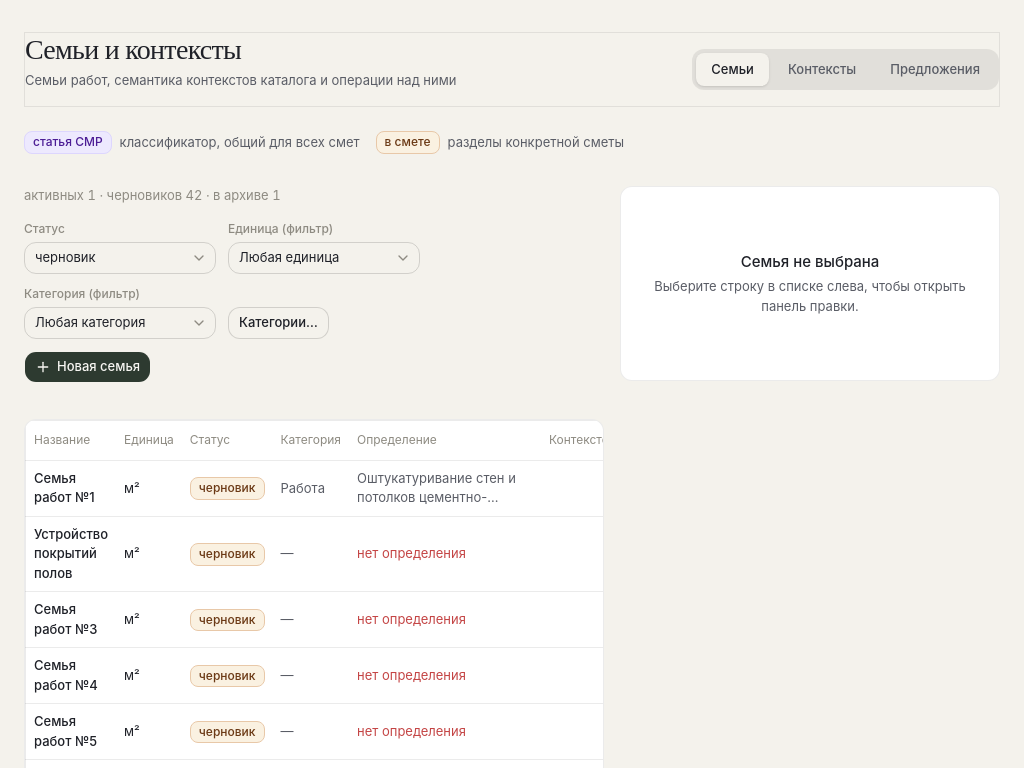
FamiliesPage — переход к семье из «Предложений» › повторный возврат на «Семьи» не открывает семью заново: фильтр «черновики», панели нет
What coordinates should you click on to do the following:
click the tab "Предложения"
I would click on:
 (935, 69)
Its box is [875, 53, 995, 86].
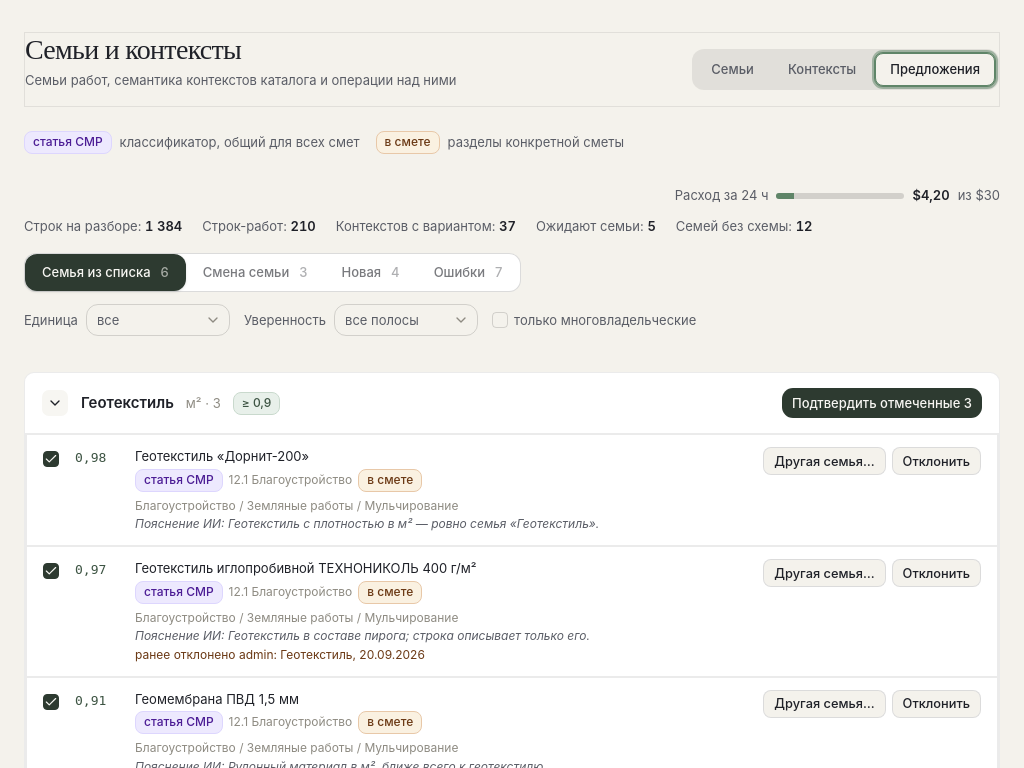
What coordinates should you click on to do the following:
click the tab "Ошибки 7"
I would click on:
 (468, 273)
Its box is [417, 254, 520, 291].
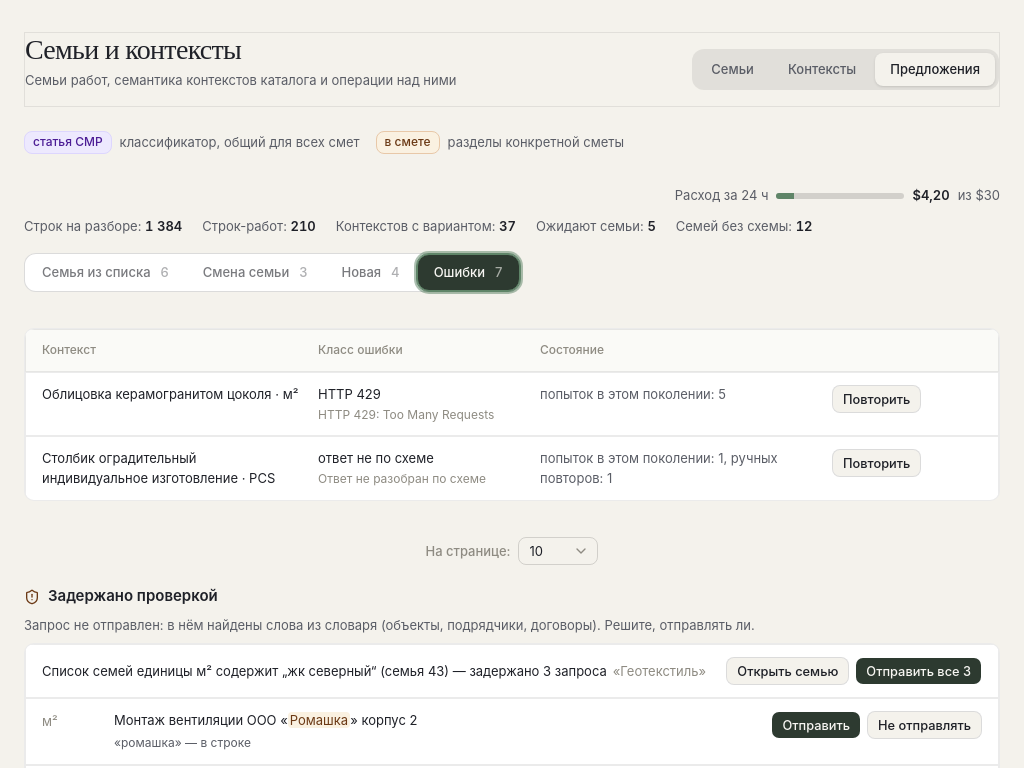
What coordinates should you click on to do the following:
click the button "Открыть семью"
I would click on:
 (788, 672)
Its box is [726, 658, 849, 686].
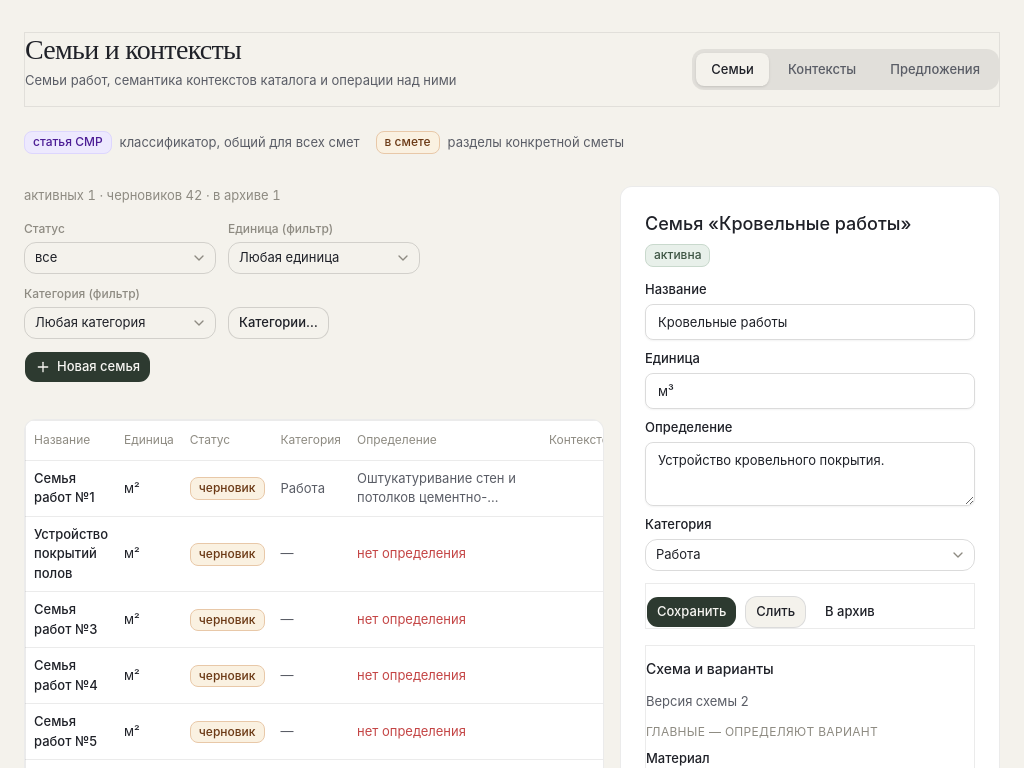
Now the field showing "Кровельные работы" is shown, box [645, 304, 975, 340]
What coordinates should you click on to do the following:
click the tab "Предложения"
I would click on:
 (935, 69)
Its box is [875, 53, 995, 86].
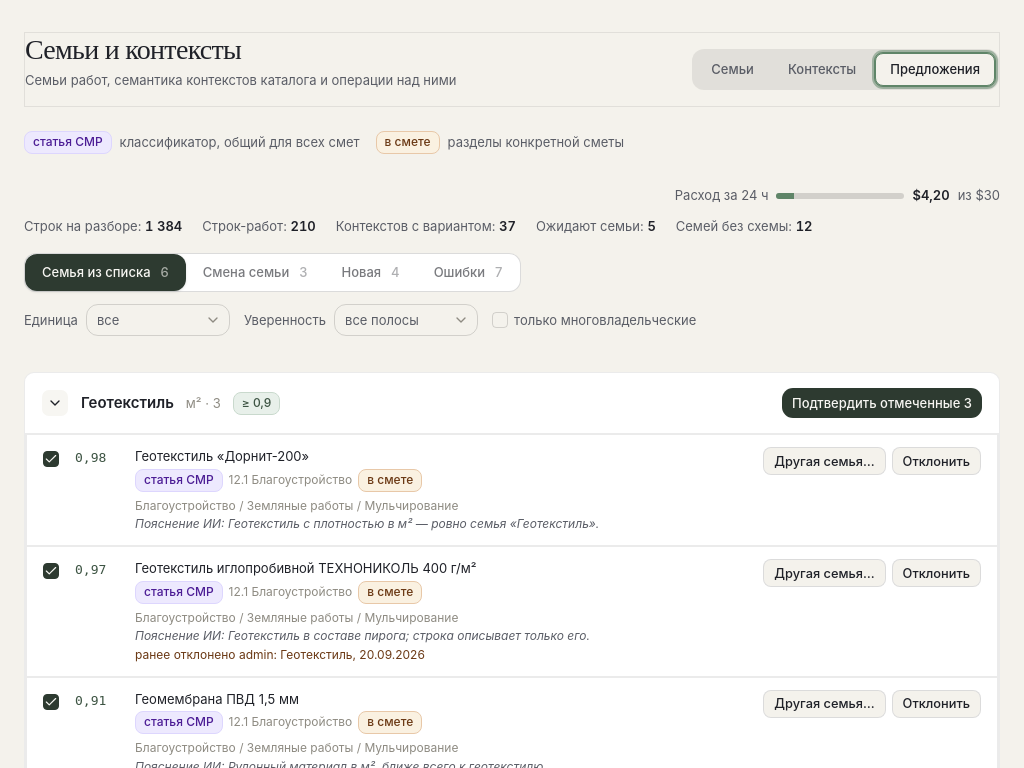
What coordinates should you click on to do the following:
click the tab "Семьи"
I would click on:
 (733, 69)
Its box is [696, 53, 769, 86].
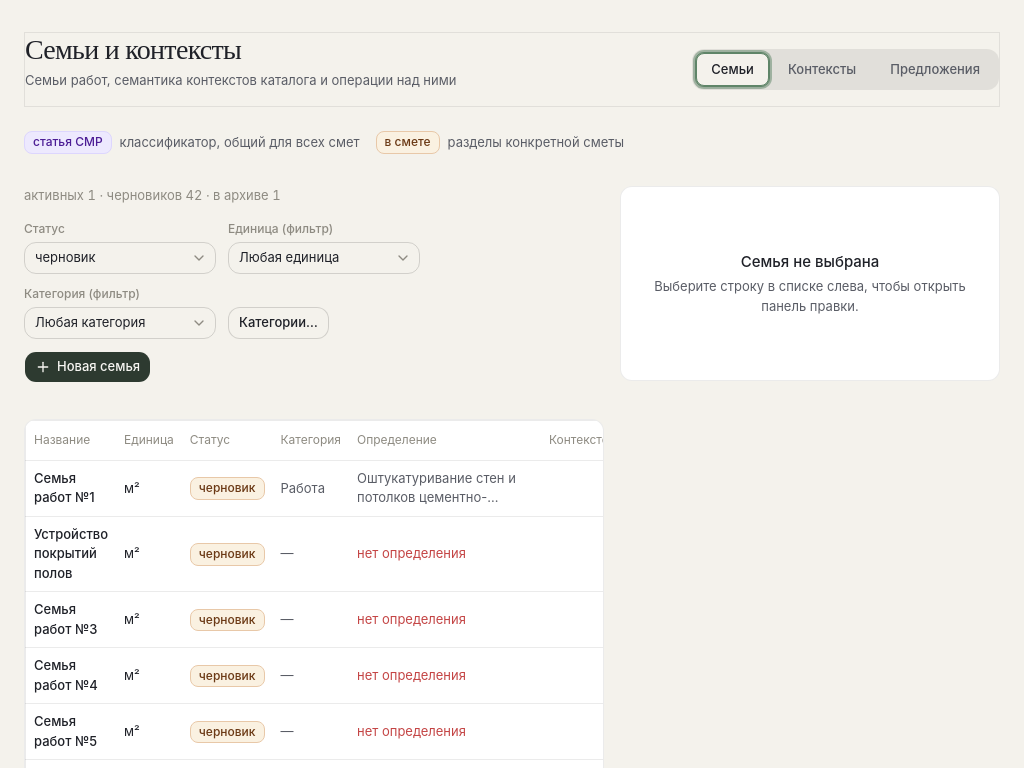
Expected: the heading showing "Кровельные работы" is not shown
Now the dropdown named "Статус" shows "черновик", box [24, 242, 216, 274]
